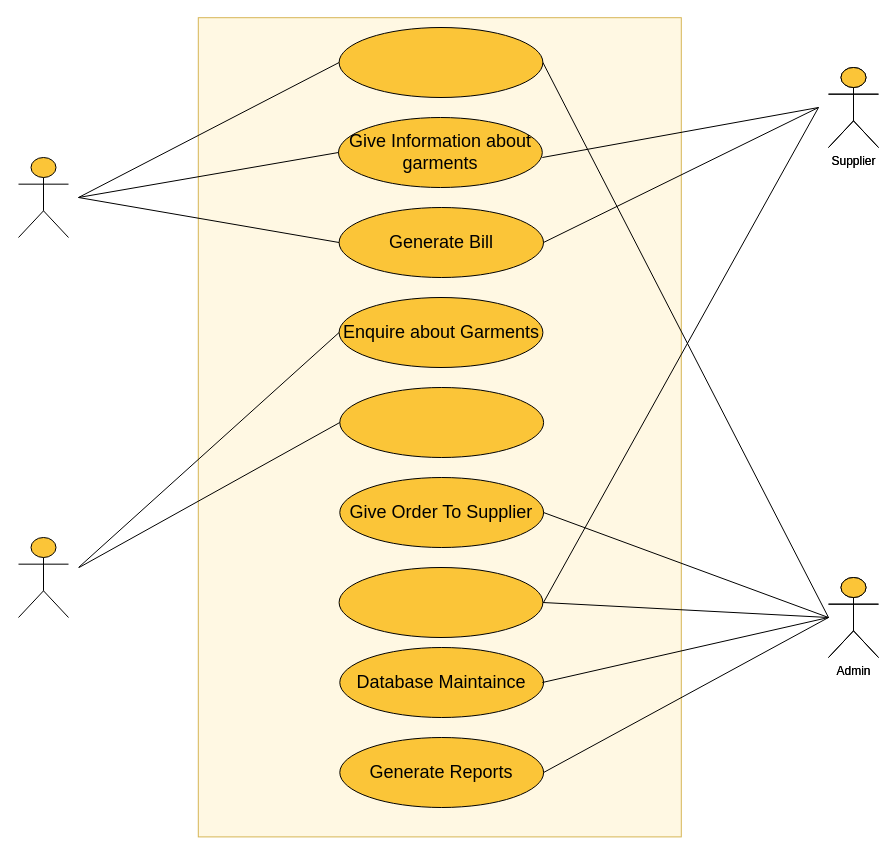
Some shapes in this 896 by 855 pixel diagram are drawn without their labels. Each missing label, with the box of its shape:
Customer: (18, 536, 68, 618)
Employee: (18, 156, 68, 238)
Login: (338, 26, 543, 98)
Offer Discount: (338, 566, 543, 638)
Request for the Bill: (339, 386, 544, 458)
